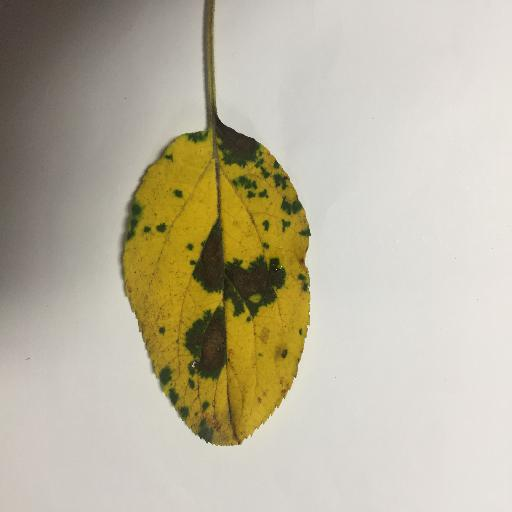Brown_Spot: (183, 231, 285, 303), (184, 313, 234, 374), (216, 120, 262, 163)
